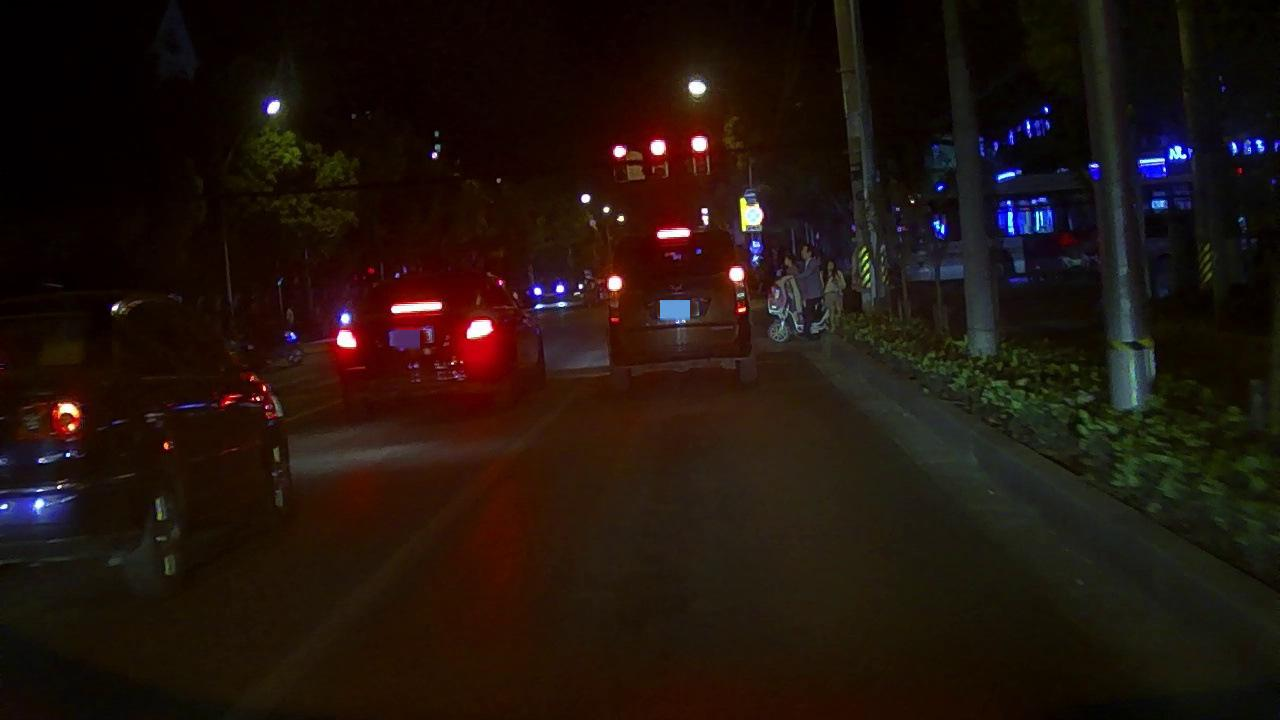traffic_light: (650, 135, 670, 178), (691, 130, 709, 174), (610, 137, 627, 183)
